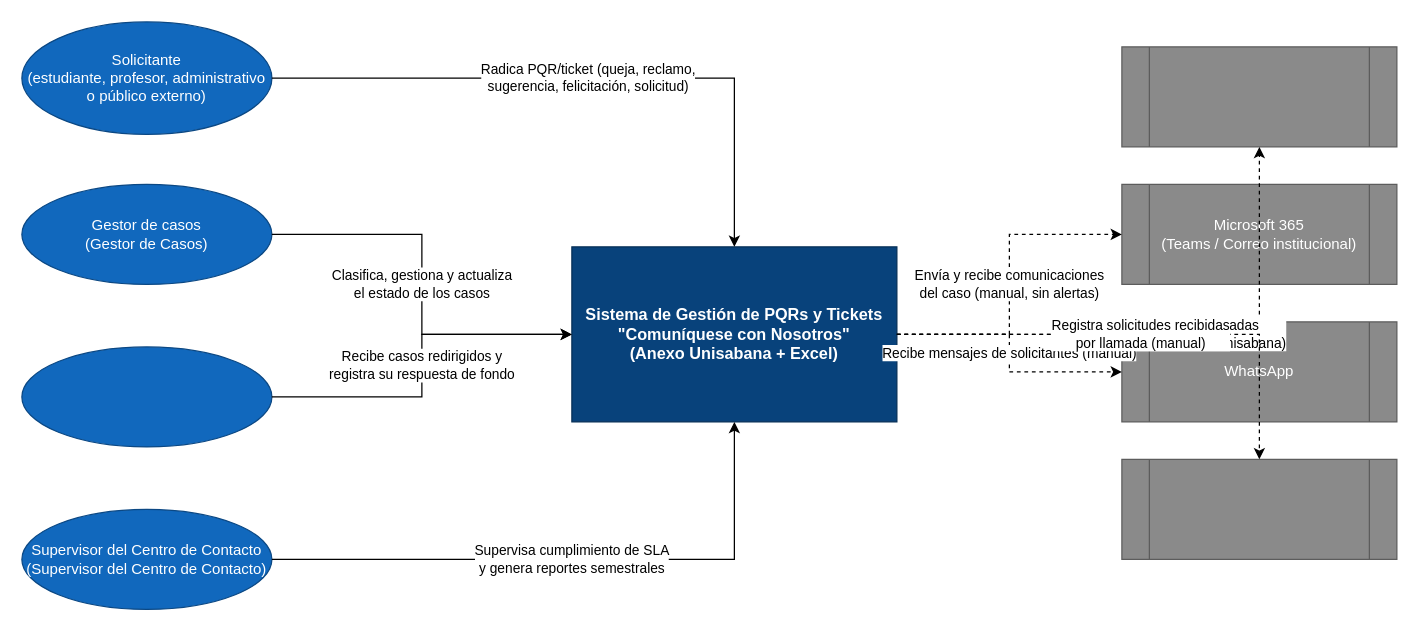
The diagram is 1419 pixels wide and 631 high, and some of its shapes have lost their labels. The shapes that lost their labels are listed below. From the top down, each one's centre as x and y in pixels, then its label:
the point at 1259,96: Sitio Web Institucional / App Unisabana
the point at 146,396: Unidad Responsable / Facultad (atiende Nivel 2 y Nivel 3)
the point at 1259,508: Central Telefónica
